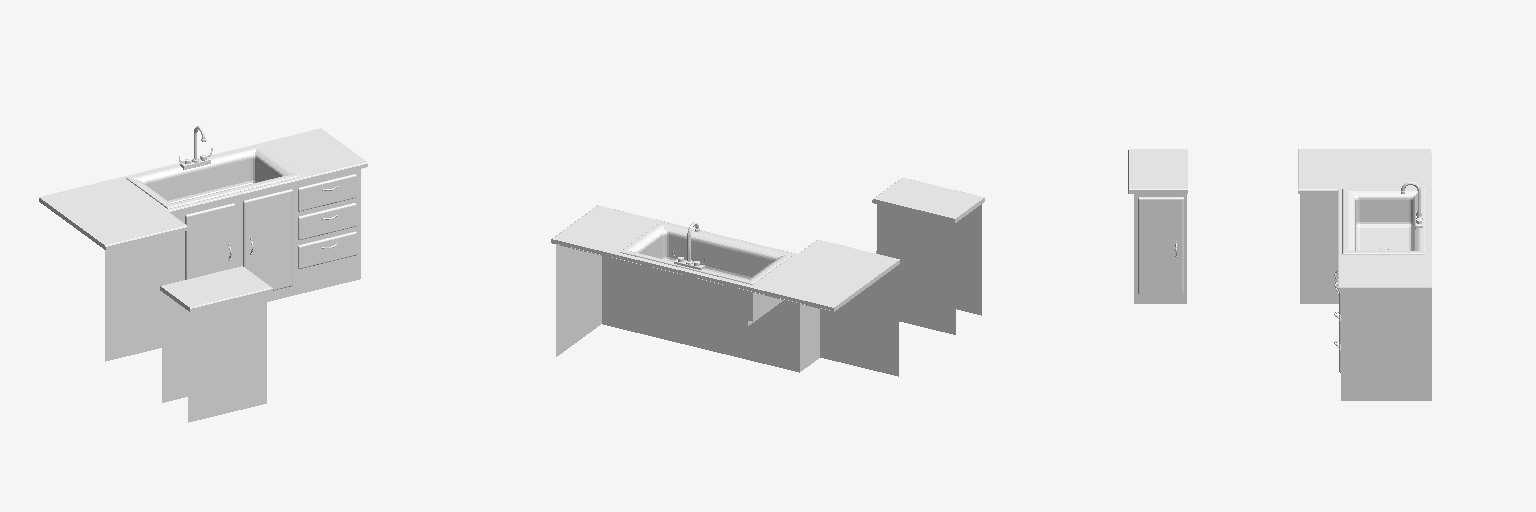
The model's file is CocinaLavabo.obj.
The picture shows the model from 3 angles: view 1: azimuth 30°, elevation 25°; view 2: azimuth 150°, elevation 25°; view 3: azimuth 270°, elevation 25°; orthographic projection.
Parts seen in each view (by area): view 1: Cylinder_LENTE; view 2: Cylinder_LENTE; view 3: Cylinder_LENTE.
Boxes of the visible parts, <box> form: Cylinder_LENTE: <box>39,126,367,422</box>; Cylinder_LENTE: <box>551,178,984,376</box>; Cylinder_LENTE: <box>1128,149,1431,400</box>.
Bounding box in the file's own units: 2.35 × 1.25 × 2.18.